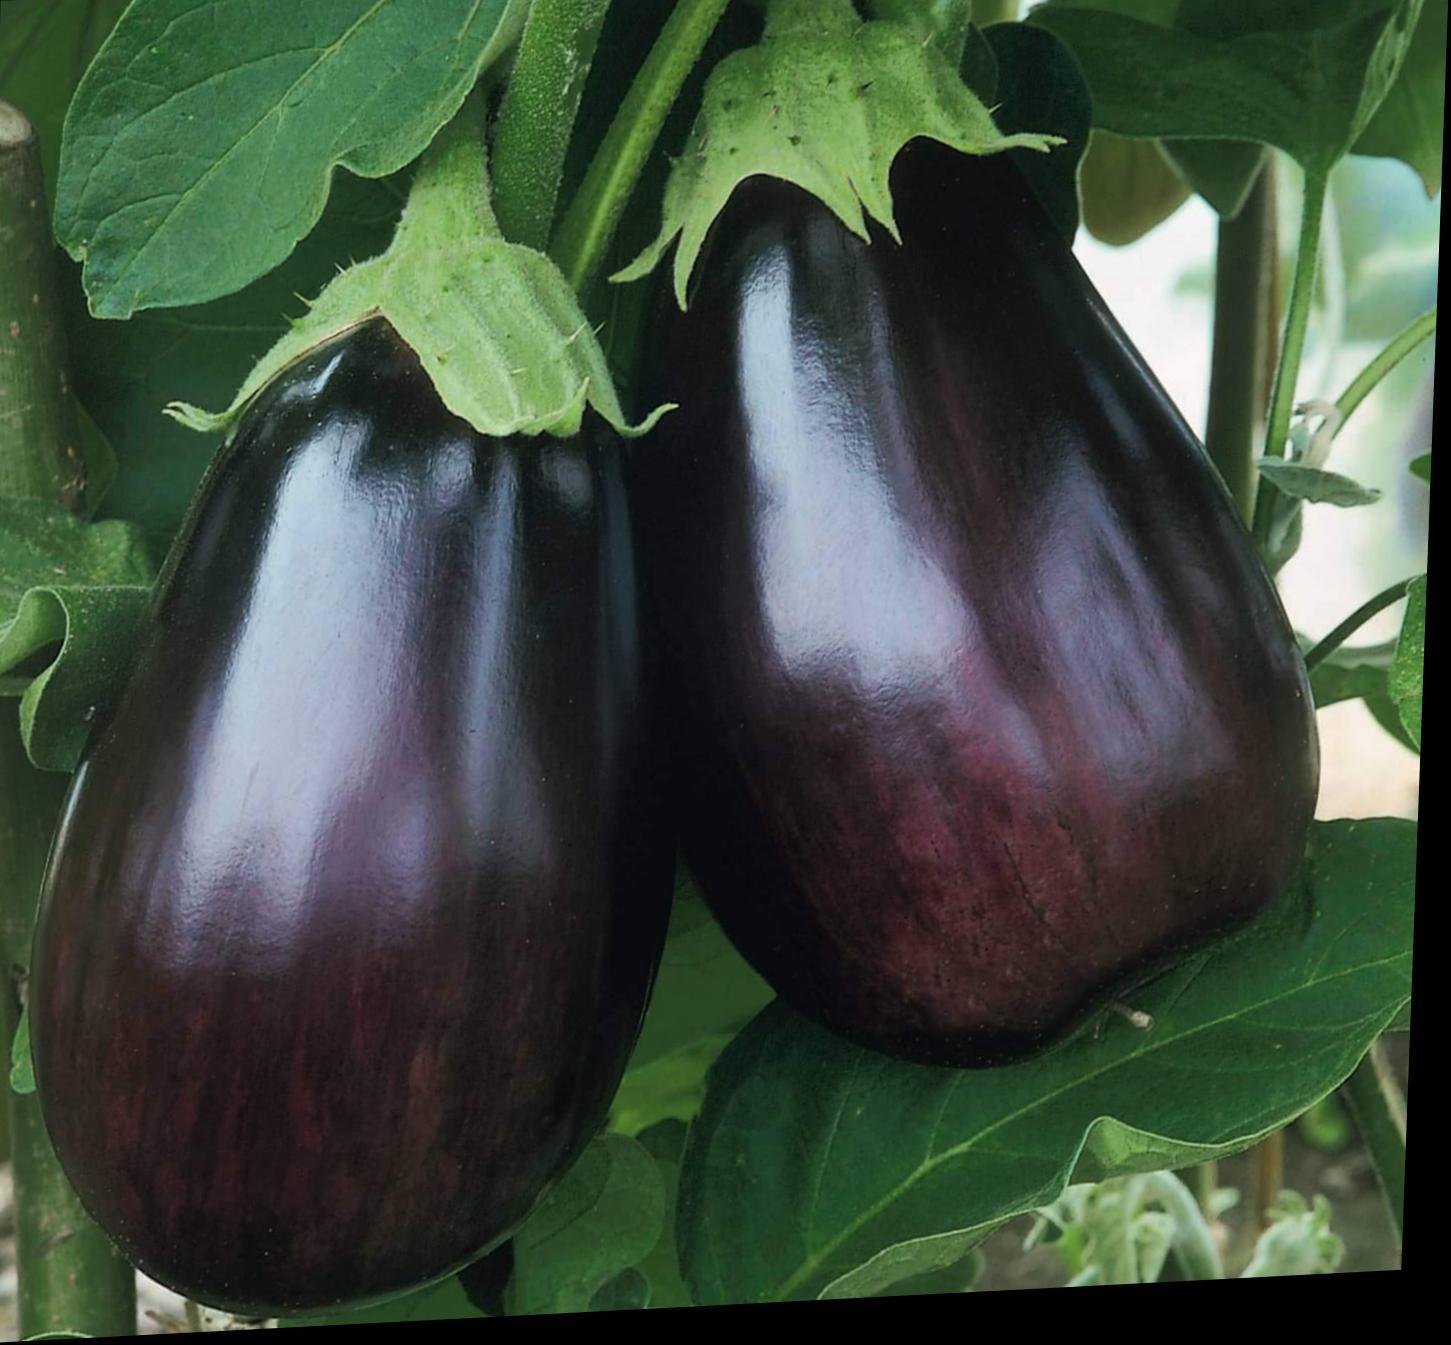eggplant: (76, 0, 1259, 1326)
